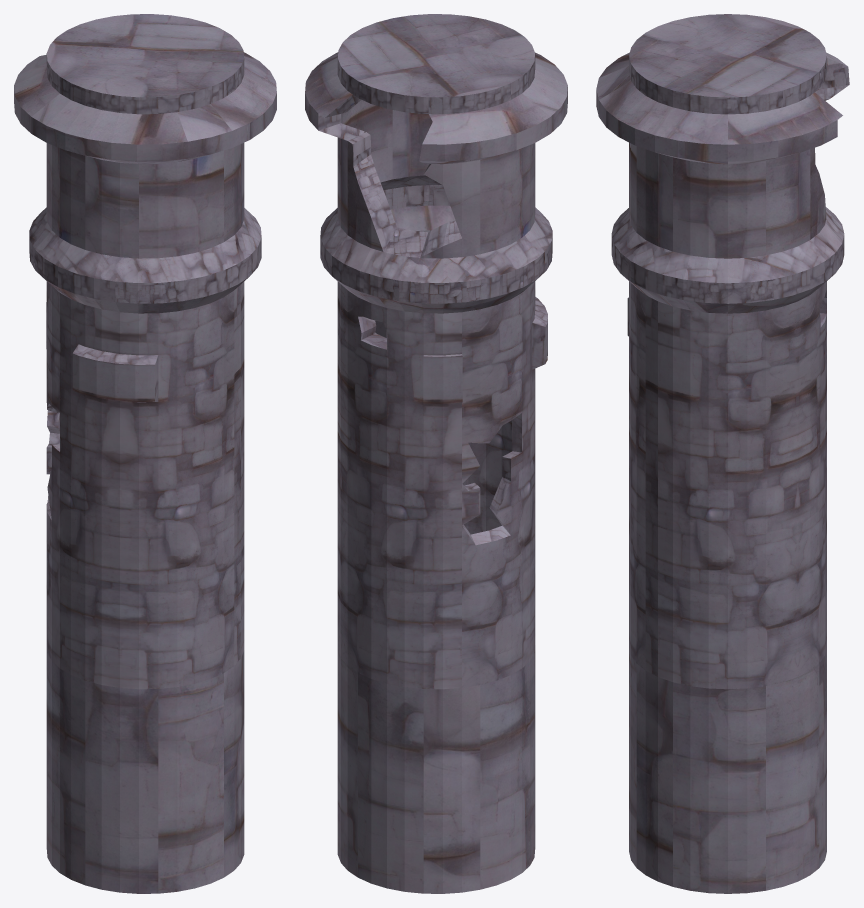
Rendered from pillar2.fbx.
3 renders of one model, left to right at view 1: azimuth 30°, elevation 25°; view 2: azimuth 150°, elevation 25°; view 3: azimuth 270°, elevation 25°, orthographic.
Visible parts, largest first — view 1: Cylinder.001; view 2: Cylinder.001; view 3: Cylinder.001.
Boxes of the visible parts, x1,y1,x2,y2 form: Cylinder.001: (14, 14, 276, 893); Cylinder.001: (305, 14, 567, 893); Cylinder.001: (596, 14, 849, 893).
Size of the model in its own units: 533 by 1778 by 513.
